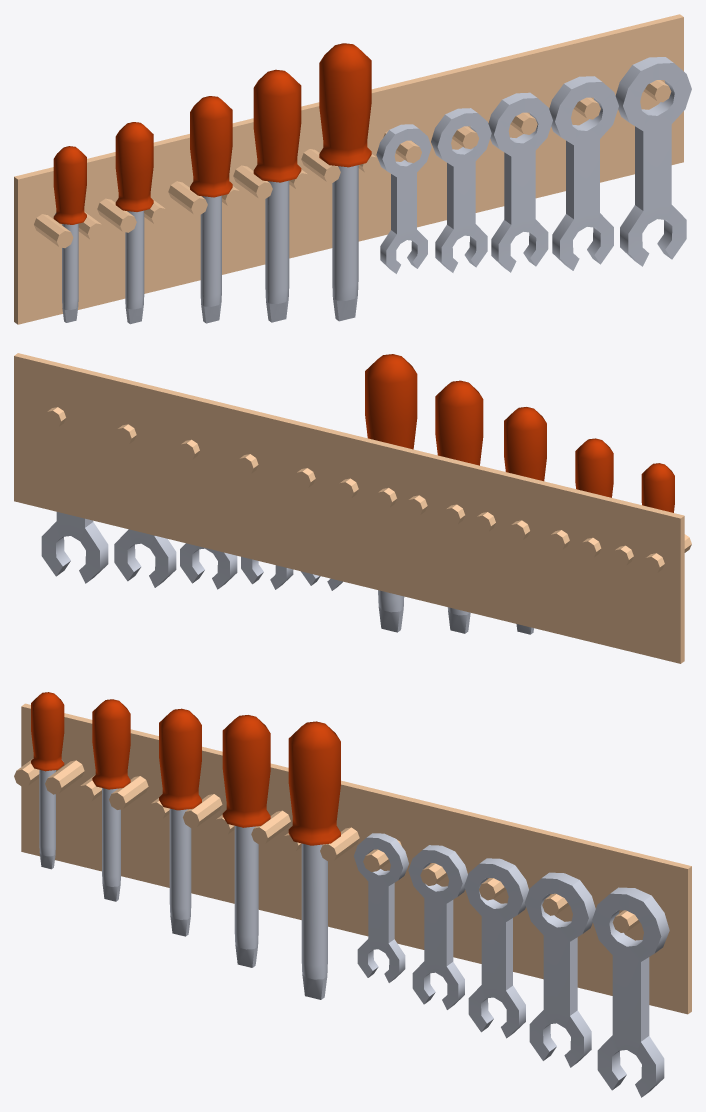
The model's file is Toolrack (2).fbx.
3 views of the same model, one above another, from view 1: azimuth 30°, elevation 25°; view 2: azimuth 150°, elevation 25°; view 3: azimuth 330°, elevation 25° (orthographic).
Parts seen in each view (by area): view 1: pCube1, Screwdriver4, Spanner4, Screwdriver3, Spanner3, Spanner2, Screwdriver2, Spanner1, Screwdriver1, Spanner, Screwdriver, pCylinder2 (+4 smaller); view 2: pCube1, Screwdriver4, Screwdriver3, Screwdriver2, Spanner4, Spanner3, Screwdriver1, Screwdriver, Spanner2, Spanner1; view 3: pCube1, Screwdriver4, Spanner4, Screwdriver3, Spanner3, Screwdriver2, Spanner2, Spanner1, Screwdriver1, Spanner, Screwdriver, pCylinder3 (+4 smaller).
Part boxes in pixels (x1,y1,x2,y2): pCube1: (14,14,683,324); Screwdriver4: (319,43,371,321); Spanner4: (615,57,691,266); Screwdriver3: (253,69,301,322); Spanner3: (549,76,618,270); Spanner2: (488,92,552,272); Screwdriver2: (190,96,232,323); Spanner1: (431,108,491,272); Screwdriver1: (115,122,153,324); Spanner: (376,124,431,273); Screwdriver: (53,146,86,322); pCylinder2: (34,214,73,248); pCube1: (14,353,684,663); Screwdriver4: (365,354,417,632); Screwdriver3: (435,380,483,633); Screwdriver2: (504,407,546,634); Spanner4: (41,512,108,583); Spanner3: (114,529,176,587); Screwdriver1: (575,438,613,497); Screwdriver: (641,463,674,512); Spanner2: (180,543,237,589); Spanner1: (241,556,293,589); pCube1: (21,703,691,1014); Screwdriver4: (288,721,340,999); Spanner4: (592,887,669,1097); Screwdriver3: (222,715,270,967); Spanner3: (524,872,595,1067); Screwdriver2: (159,708,201,936); Spanner2: (464,858,528,1038); Spanner1: (408,845,467,1009); Screwdriver1: (92,699,130,901); Spanner: (354,833,408,982); Screwdriver: (31,692,64,869); pCylinder3: (45,760,84,794).
Size of the model in its own units: 48 by 20.22 by 4.78.
